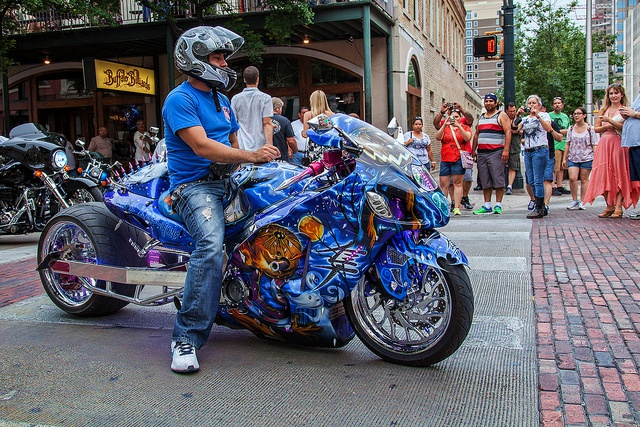non-vehicle: (36, 108, 476, 369), (0, 130, 97, 236), (72, 139, 121, 187)
